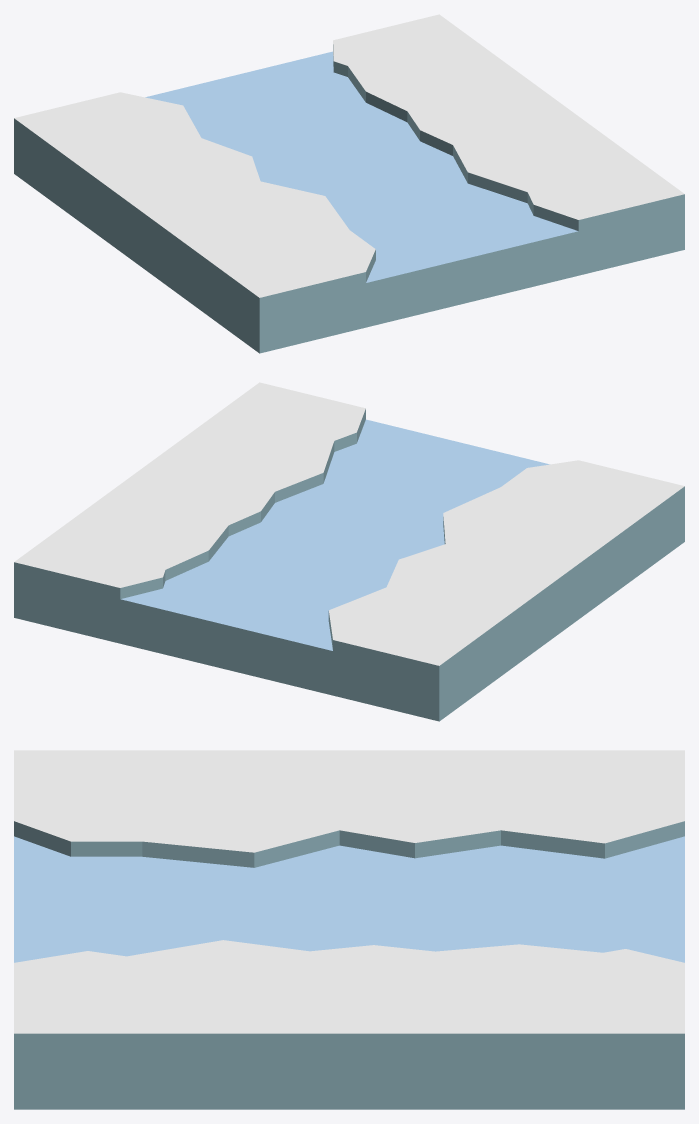
The model's file is Terrain_Tile_Ice_Snow_River_02.fbx.
3 renders of one model, top to bottom at view 1: azimuth 30°, elevation 25°; view 2: azimuth 150°, elevation 25°; view 3: azimuth 270°, elevation 25°, orthographic. The views are drawn at different scales.
Parts seen in each view (by area): view 1: Terrain_Tile_Ice_Snow_River_02; view 2: Terrain_Tile_Ice_Snow_River_02; view 3: Terrain_Tile_Ice_Snow_River_02.
Part boxes in pixels (x1=…): Terrain_Tile_Ice_Snow_River_02: x1=14, y1=14, x2=684, y2=353; Terrain_Tile_Ice_Snow_River_02: x1=14, y1=382, x2=684, y2=721; Terrain_Tile_Ice_Snow_River_02: x1=14, y1=750, x2=684, y2=1109.
Bounding box in the file's own units: 126 × 15.75 × 126.
